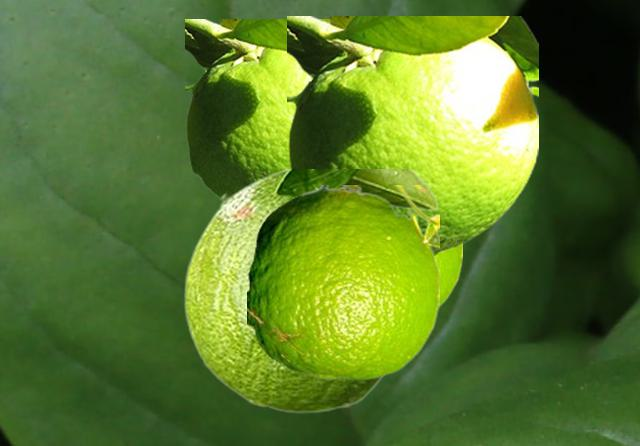dalandan: (183, 169, 438, 412), (287, 16, 537, 254), (247, 185, 438, 379), (185, 19, 327, 199), (436, 246, 461, 308)
